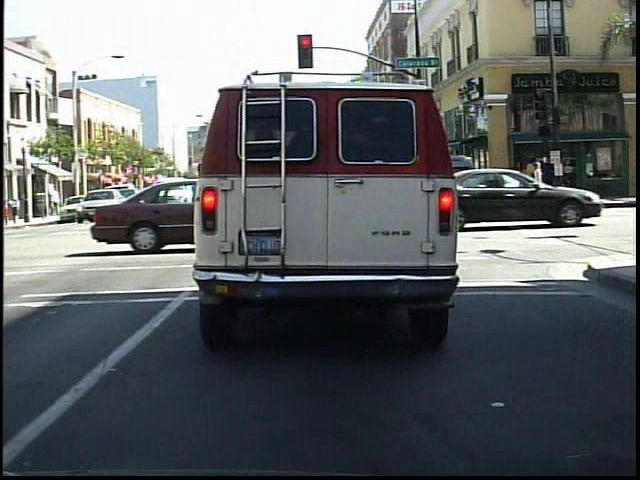person: (536, 153, 559, 204), (511, 160, 531, 205)
